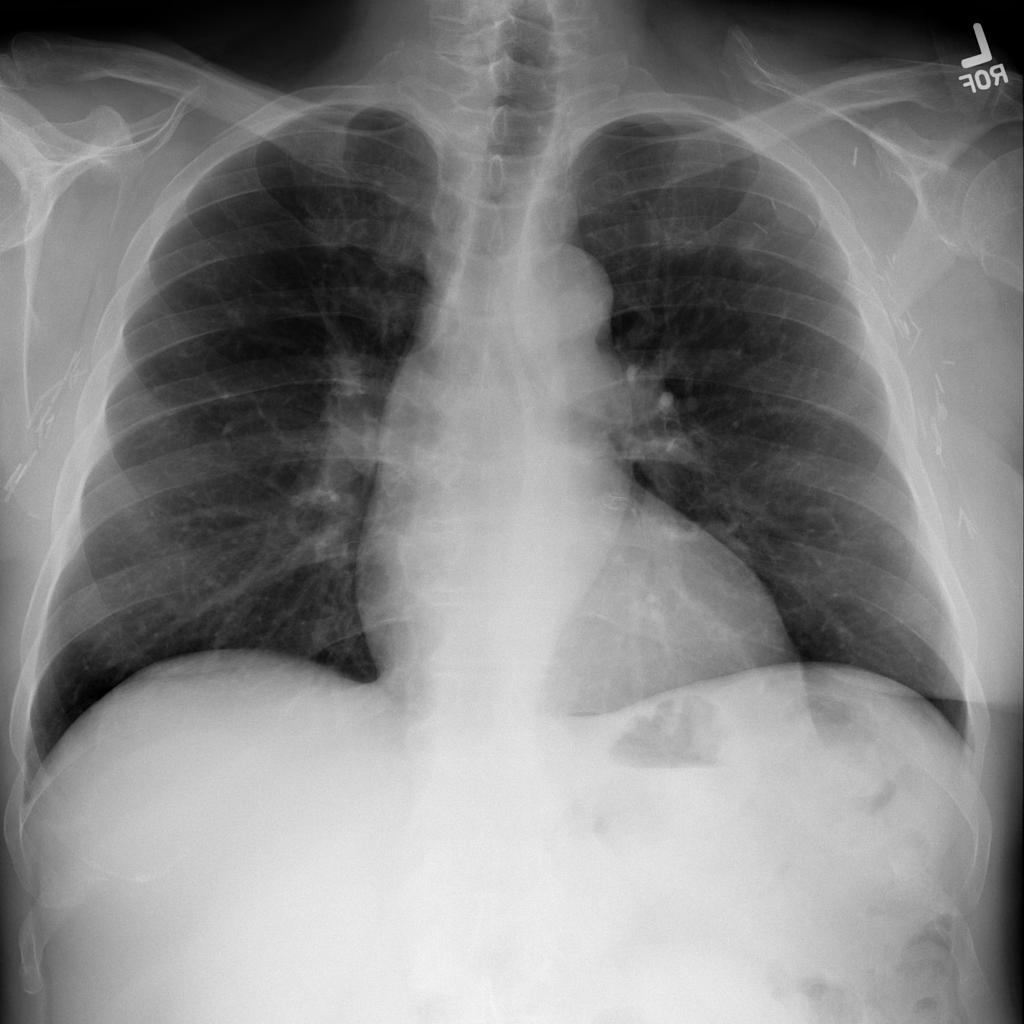nodule: (718, 208, 795, 278), (858, 504, 932, 570)
